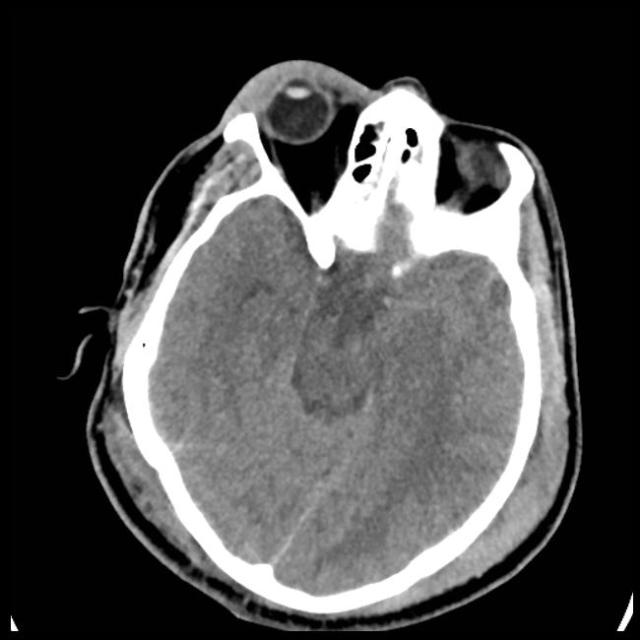lesion: (73, 58, 587, 632)
